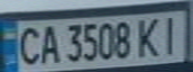0: (97, 19, 118, 61)
3: (60, 20, 84, 63)
5: (78, 20, 100, 62)
8: (112, 18, 136, 60)
A: (36, 21, 60, 65)
C: (12, 24, 42, 66)
I: (154, 12, 187, 56)
K: (133, 15, 166, 58)
